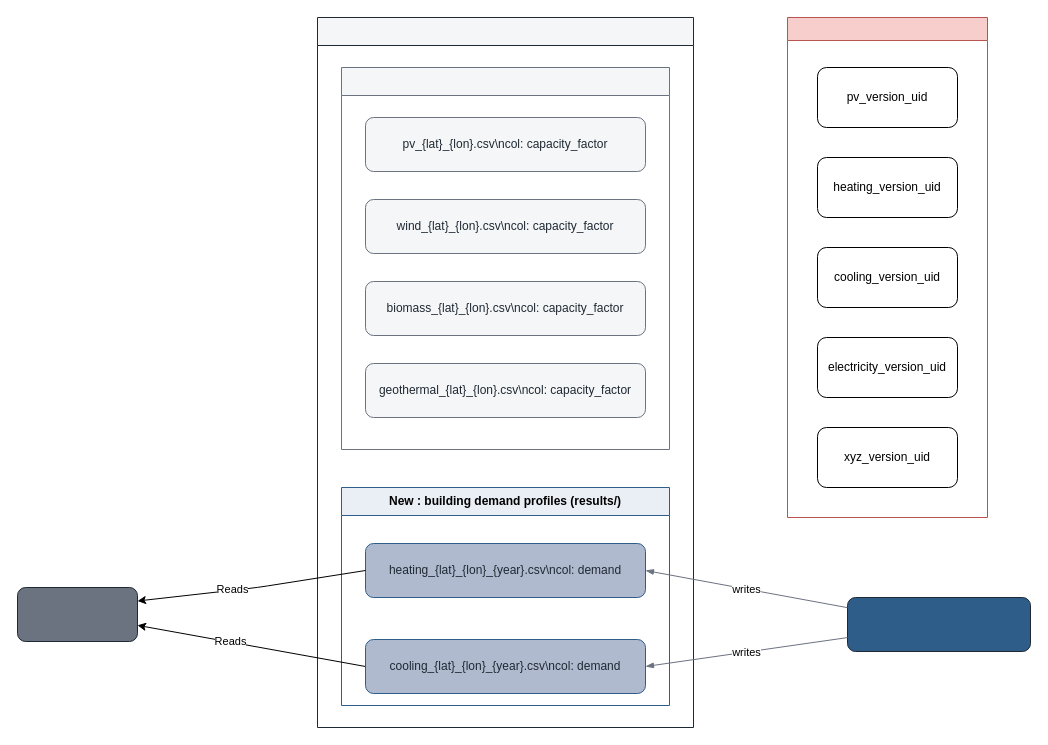
Some shapes in this 1048 by 745 pixel diagram are drawn without their labels. The box of each missing label's shape, as (x1, y1, x2, y2) in pixels:
Calliope: (16, 586, 138, 642)
Existing: renewable supply profiles (flat root): (340, 66, 670, 450)
Go Gateway\n(buem.go): (846, 596, 1030, 652)
results_uid.nc: (786, 16, 988, 518)
sim_shared_data (mounted at /webservice/data): (316, 16, 694, 728)
